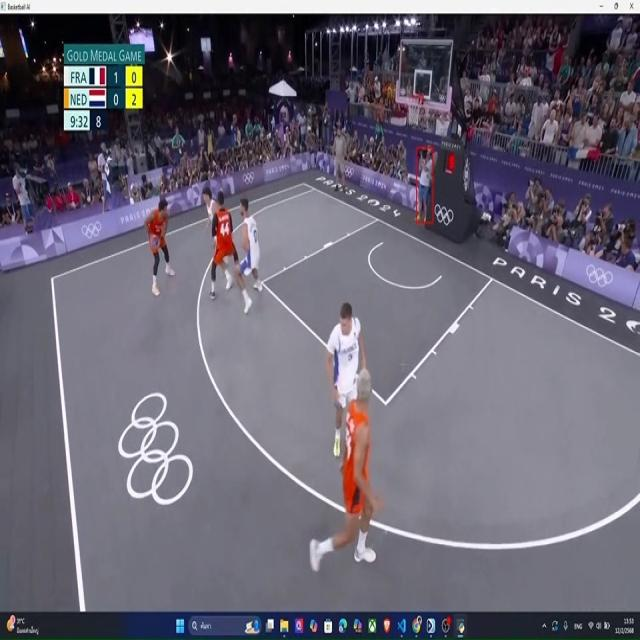basketball: (151, 235, 160, 252)
hoop: (407, 89, 423, 127)
